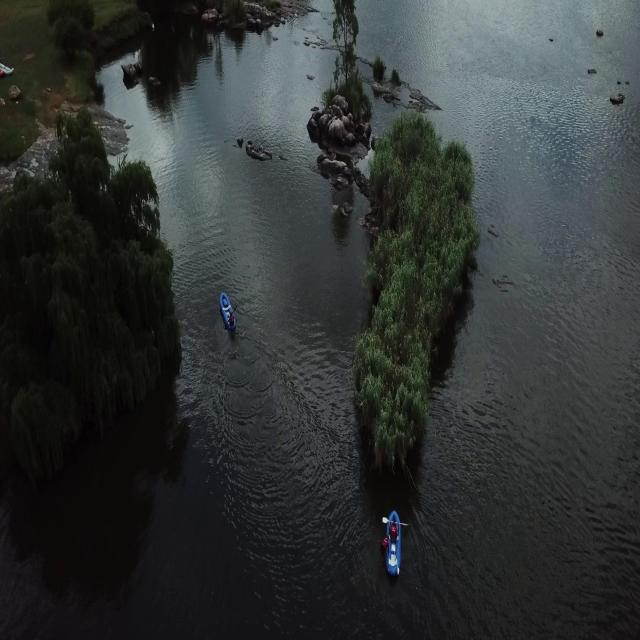kayak: (382, 506, 406, 574), (218, 287, 238, 335)
